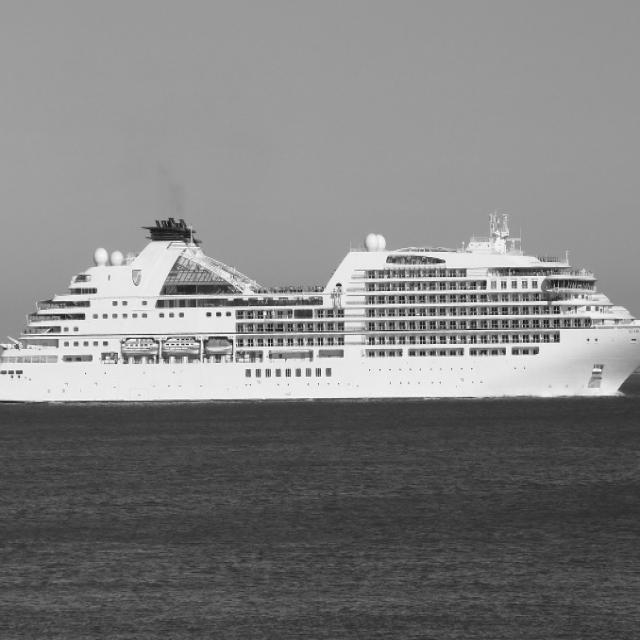cruises: (1, 189, 640, 407)
